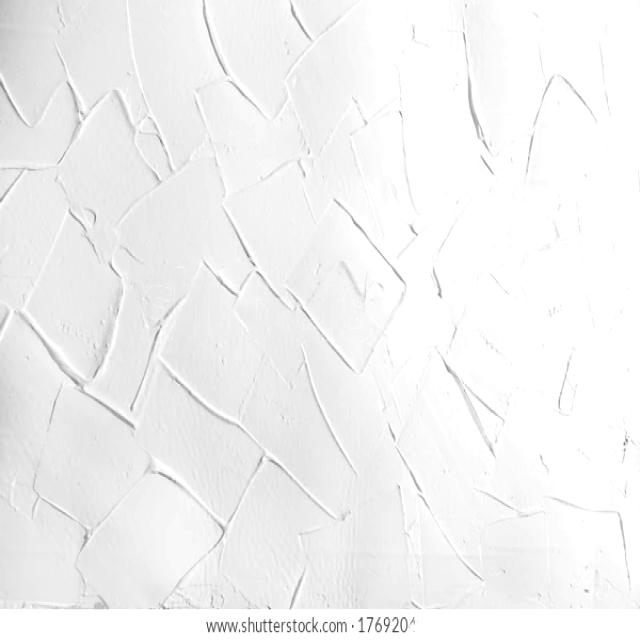trowels marks: (7, 8, 634, 602)
